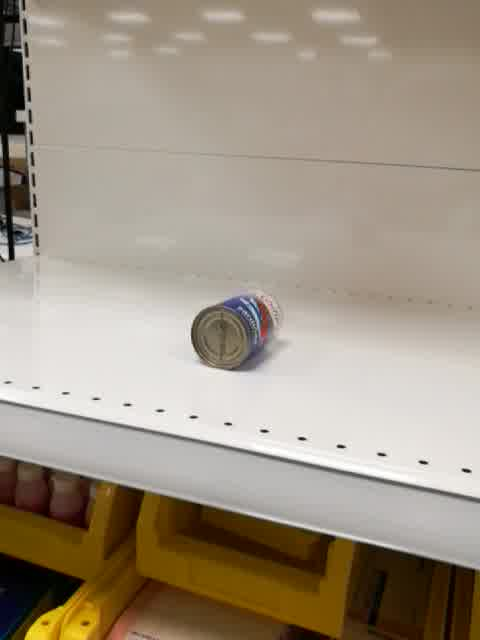sardine: (190, 287, 282, 372)
